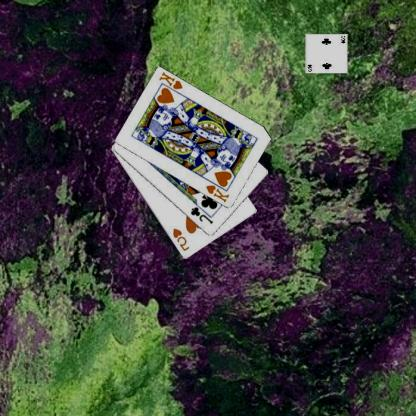5H: (172, 226, 192, 253)
JC: (190, 204, 216, 226)
KH: (205, 182, 232, 204), (158, 70, 186, 91)
